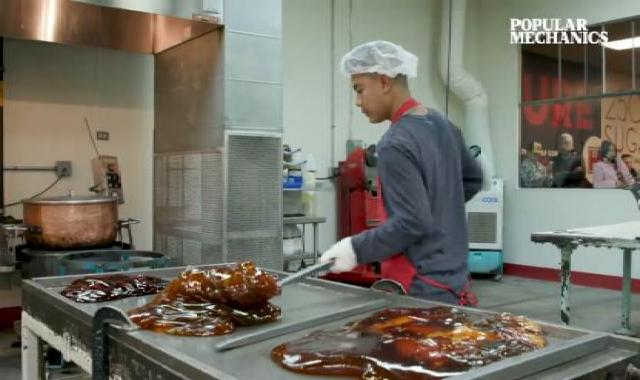hairnet: (333, 43, 418, 86)
